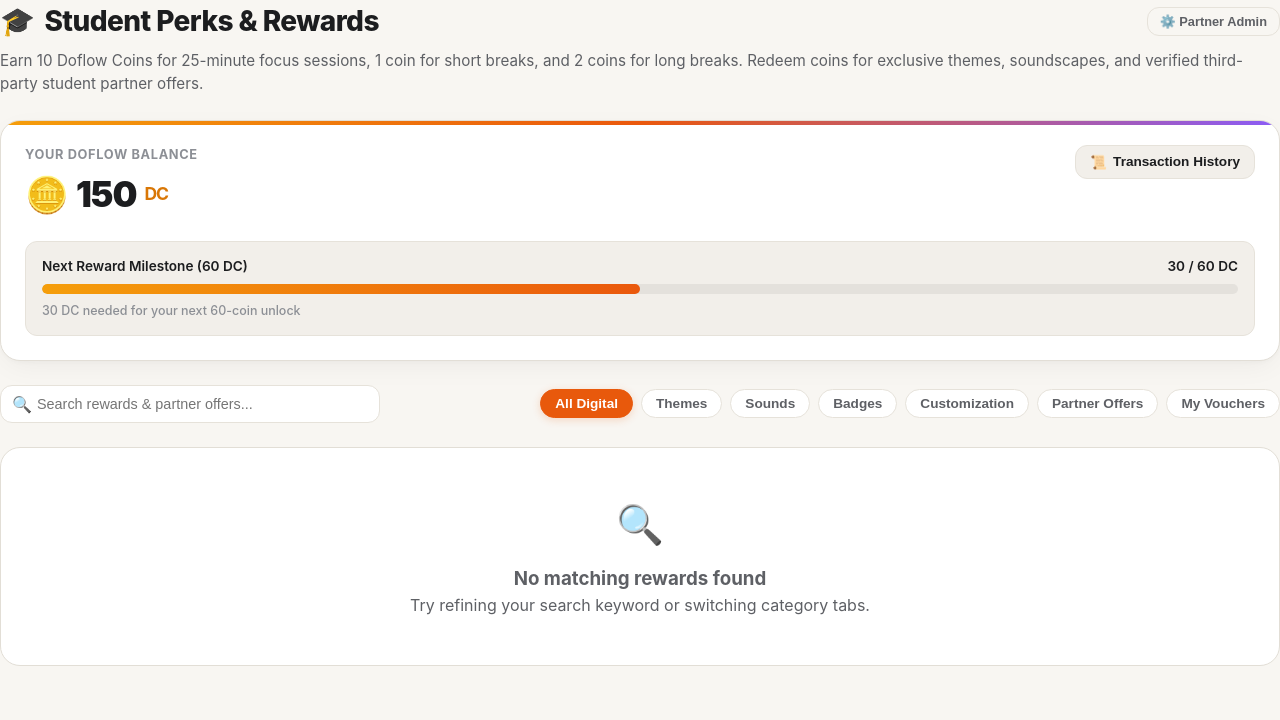
Partner Offers UI Acceptance Tests › 1. renders Partner Offers tab and switches to partner offers view
What coordinates should you click on to do the following:
click the tab with test id "category-filter-partner_offers"
I would click on:
 (1098, 404)
Its box is [1037,389,1158,418].
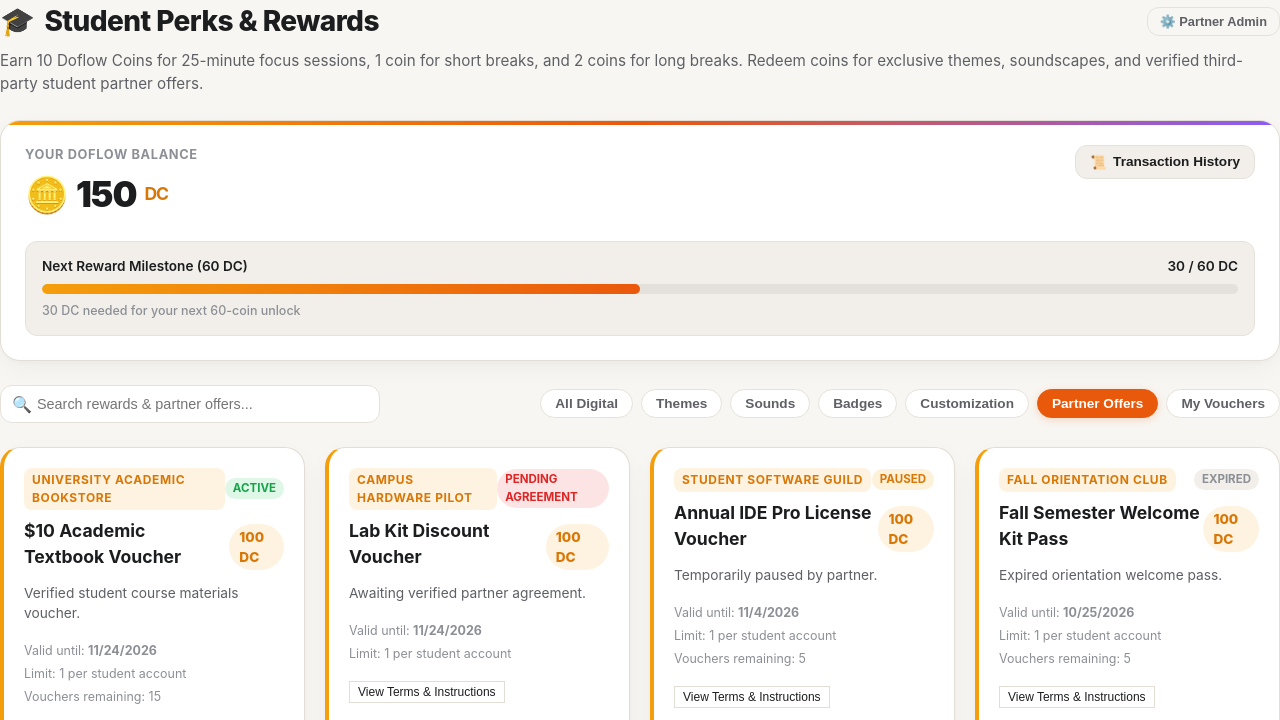
Expected: the heading with test id "partner-title-partner_bookstore_active" reads "$10 Academic Textbook Voucher", [24,520,181,567]
Expected: the text with test id "partner-org-partner_bookstore_active" reads "University Academic Bookstore", [32,472,185,505]
